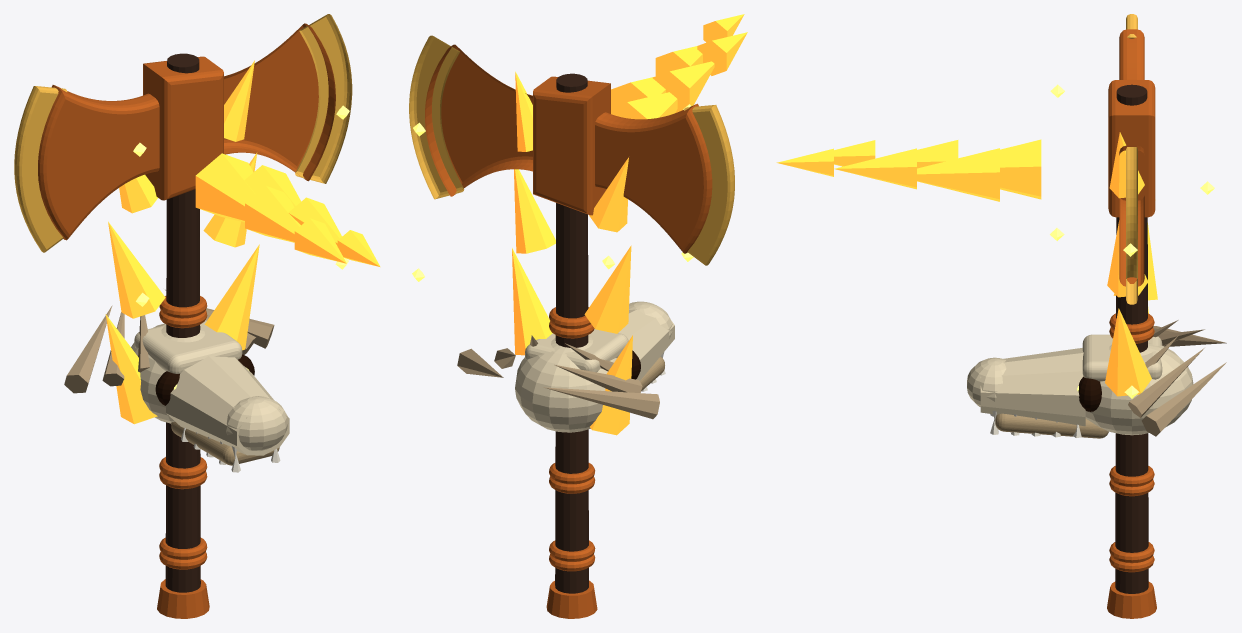
File: drgaxe.glb
The picture shows the model from 3 angles, left to right: view 1: azimuth 30°, elevation 25°; view 2: azimuth 150°, elevation 25°; view 3: azimuth 270°, elevation 25°; orthographic projection. The views are drawn at different scales.
Visible parts, largest first — view 1: head, flame, bone, edge, grip, wrap, horn, pommel, boneDark, socket; view 2: head, flame, bone, grip, edge, horn, wrap, pommel; view 3: flame, bone, head, grip, horn, wrap, edge, boneDark, pommel, socket.
Part boxes in pixels (bbox=[...]): head: bbox=[38, 23, 335, 240]; flame: bbox=[105, 60, 380, 424]; bone: bbox=[131, 320, 289, 455]; edge: bbox=[14, 14, 352, 252]; grip: bbox=[165, 53, 200, 592]; wrap: bbox=[159, 296, 207, 569]; horn: bbox=[64, 289, 274, 393]; pommel: bbox=[157, 579, 209, 618]; boneDark: bbox=[171, 421, 279, 465]; socket: bbox=[155, 354, 254, 405]; head: bbox=[425, 44, 712, 253]; flame: bbox=[512, 14, 747, 435]; bone: bbox=[515, 301, 674, 432]; grip: bbox=[555, 73, 588, 593]; edge: bbox=[409, 35, 734, 265]; horn: bbox=[457, 335, 659, 419]; wrap: bbox=[549, 307, 595, 571]; pommel: bbox=[546, 580, 597, 618]; flame: bbox=[776, 132, 1157, 396]; bone: bbox=[967, 334, 1193, 435]; head: bbox=[1108, 29, 1155, 286]; grip: bbox=[1115, 84, 1148, 593]; horn: bbox=[1128, 320, 1226, 436]; wrap: bbox=[1109, 313, 1154, 572]; edge: bbox=[1126, 14, 1137, 304]; boneDark: bbox=[995, 413, 1108, 438]; pommel: bbox=[1107, 581, 1156, 618]; socket: bbox=[1078, 376, 1101, 411].
Size of the model in its own units: 2.18 by 3.46 by 2.69.
